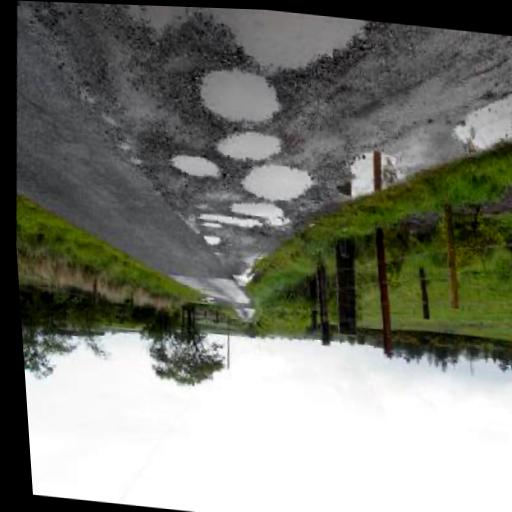pothole: (196, 7, 384, 88), (192, 67, 287, 132), (110, 4, 200, 48), (236, 161, 316, 209), (213, 127, 285, 170), (165, 152, 224, 185), (229, 200, 291, 228), (195, 212, 261, 230), (202, 234, 223, 250)
